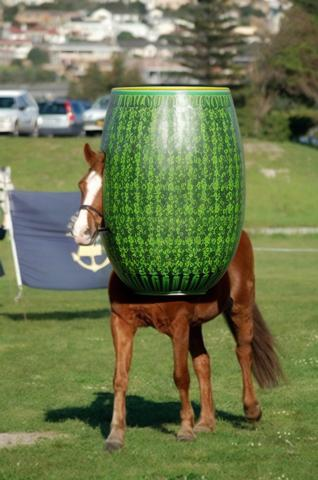car: (84, 87, 161, 140), (34, 92, 82, 138), (1, 91, 40, 140)
horse: (71, 142, 291, 448)
pottedplant: (101, 84, 245, 304)
